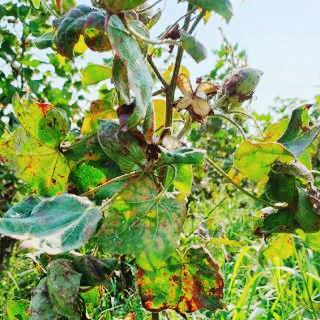blight: (71, 117, 213, 272), (125, 235, 235, 310), (0, 95, 75, 200)
curl: (47, 5, 168, 117)
